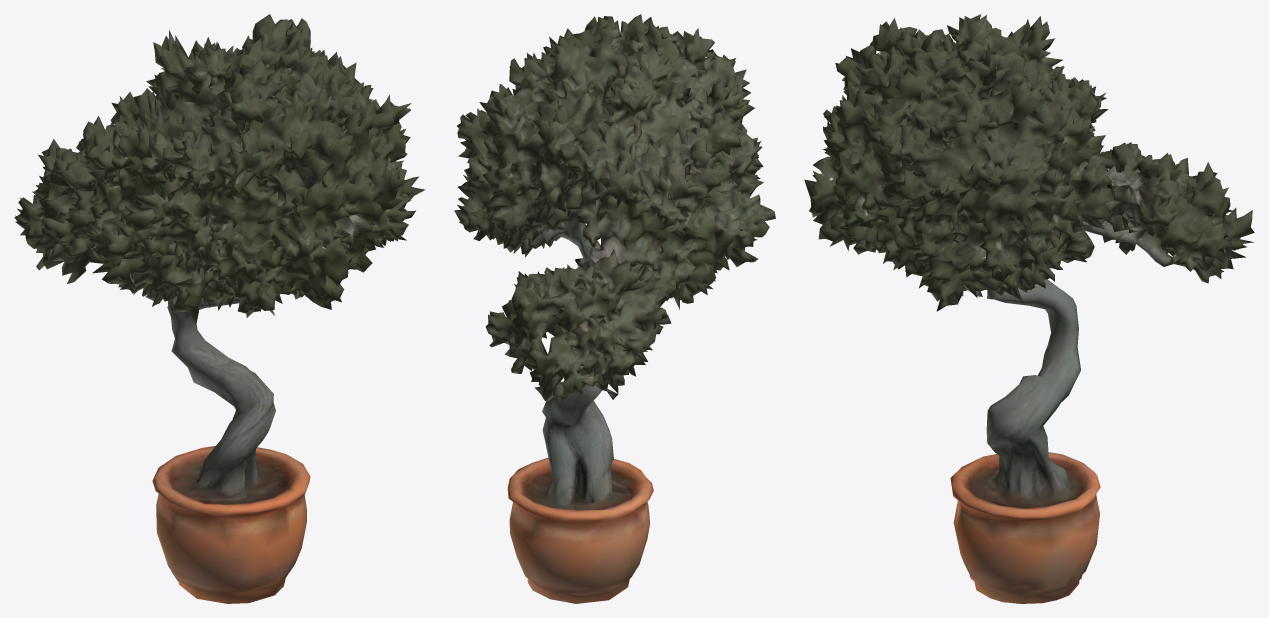
File: courtyard-olive-tree.glb
3 renders of one model, left to right at view 1: azimuth 30°, elevation 25°; view 2: azimuth 150°, elevation 25°; view 3: azimuth 270°, elevation 25°, orthographic. The views are drawn at different scales.
Bounding box in the file's own units: 1.14 × 2 × 1.49.
Materials: 1 (1 with a texture image).
